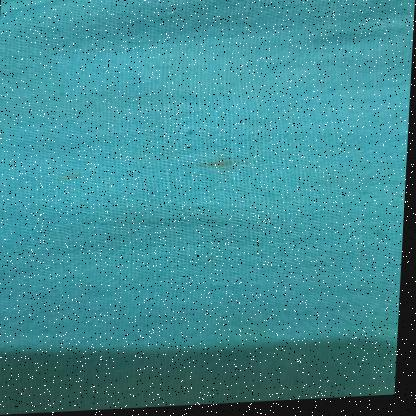spot: (184, 160, 260, 177), (359, 227, 405, 249), (46, 175, 96, 189), (175, 125, 205, 141)
